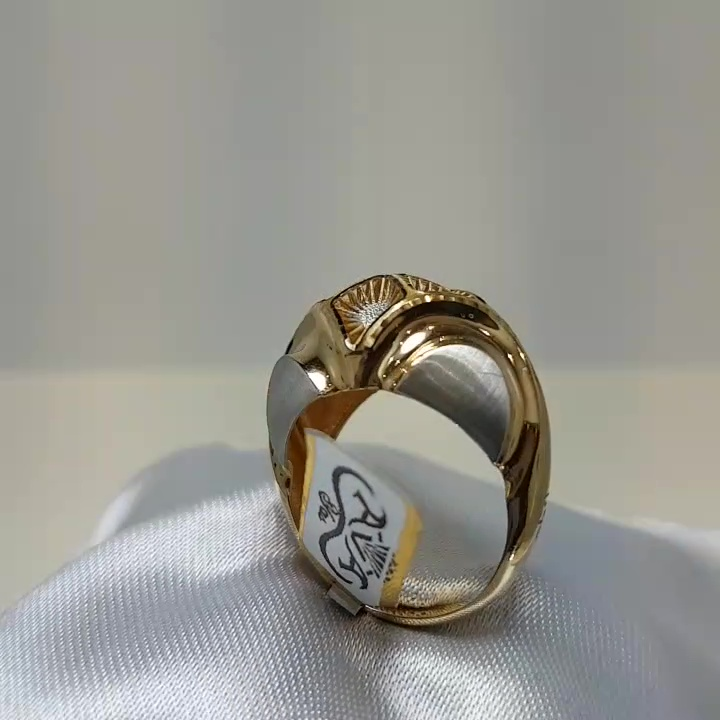Ring 2: (243, 252, 573, 639)
